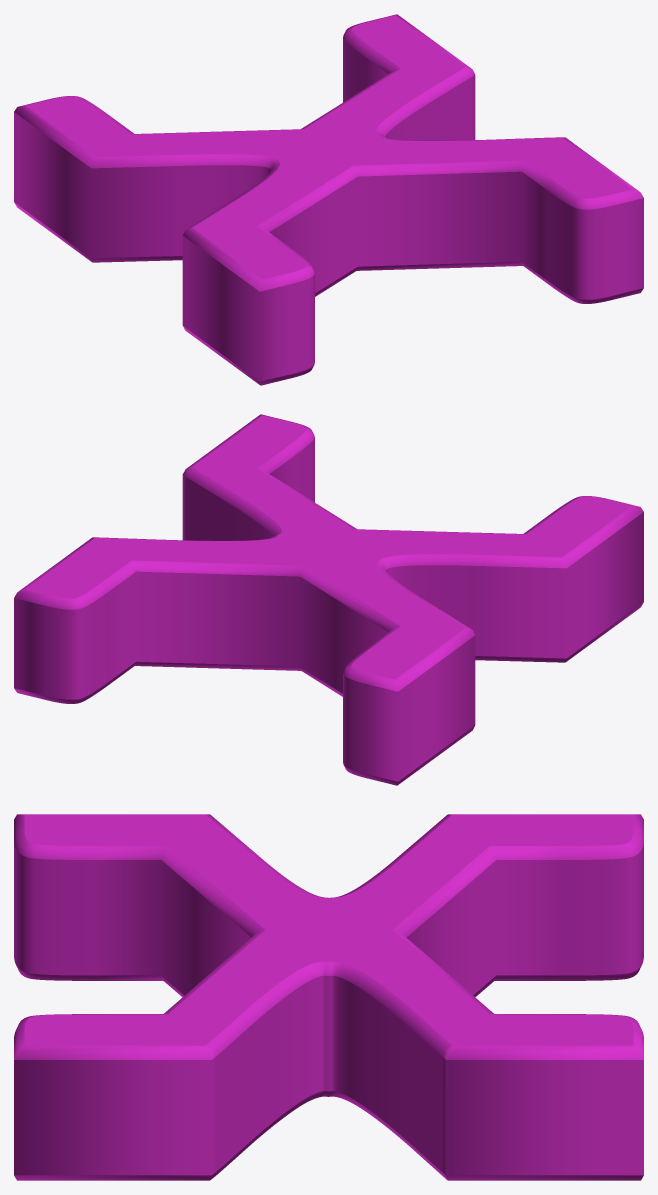
The model's file is Letter_x_CoolFont.fbx.
3 renders of one model, top to bottom at view 1: azimuth 30°, elevation 25°; view 2: azimuth 150°, elevation 25°; view 3: azimuth 270°, elevation 25°, orthographic. The views are drawn at different scales.
Visible parts, largest first — view 1: Letter_x; view 2: Letter_x; view 3: Letter_x.
Boxes of the visible parts, x1,y1,x2,y2 form: Letter_x: (14,14,643,385); Letter_x: (14,414,643,785); Letter_x: (14,814,643,1180).
Size of the model in its own units: 0.5357 by 0.14 by 0.5937.
